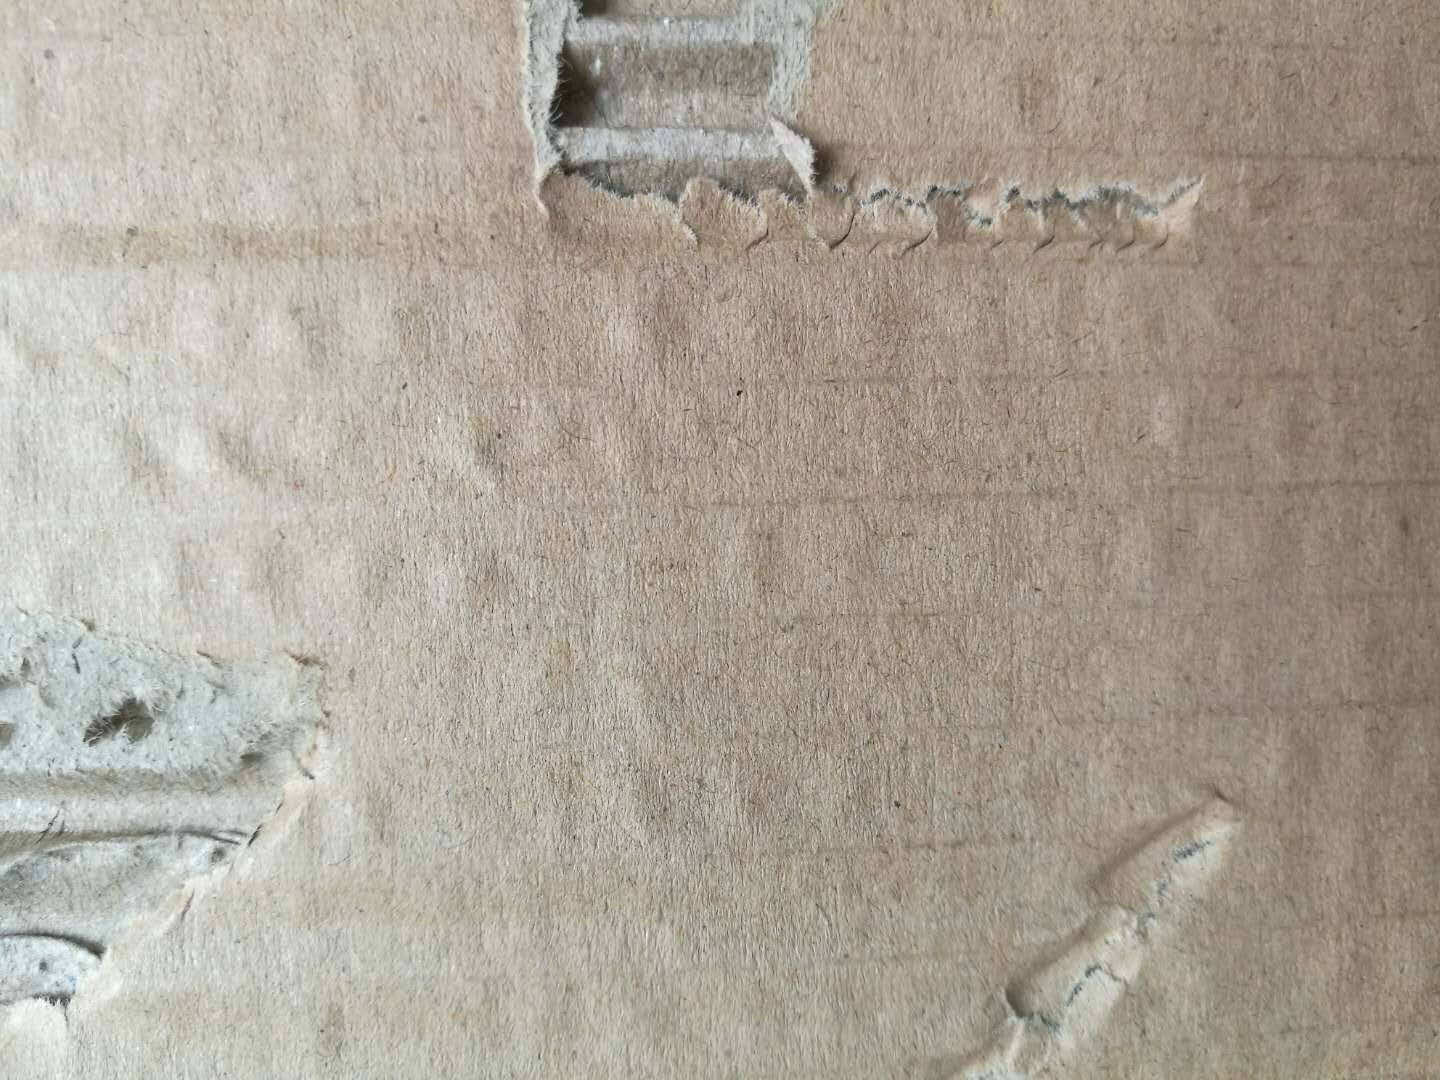defect: (471, 3, 1270, 290), (3, 577, 386, 1056), (891, 735, 1301, 1080), (5, 174, 595, 319)
